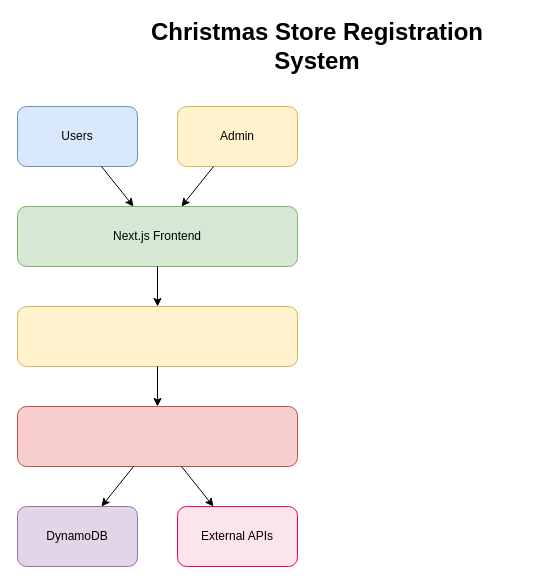
Some shapes in this 535 by 584 pixel diagram are drawn without their labels. Each missing label, with the centre of its shape:
"API Routes" goes at point 157,336.
"AWS Amplify Gen 2" goes at point 157,436.
